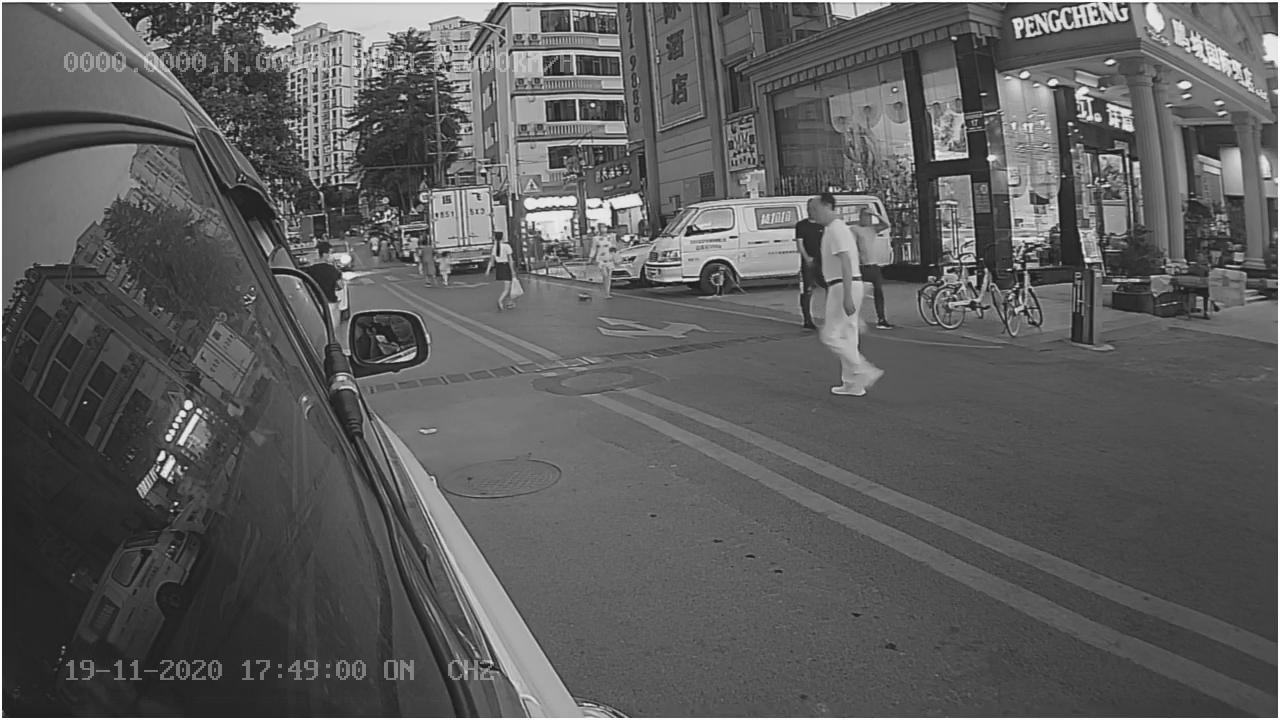person: (796, 188, 890, 404)
